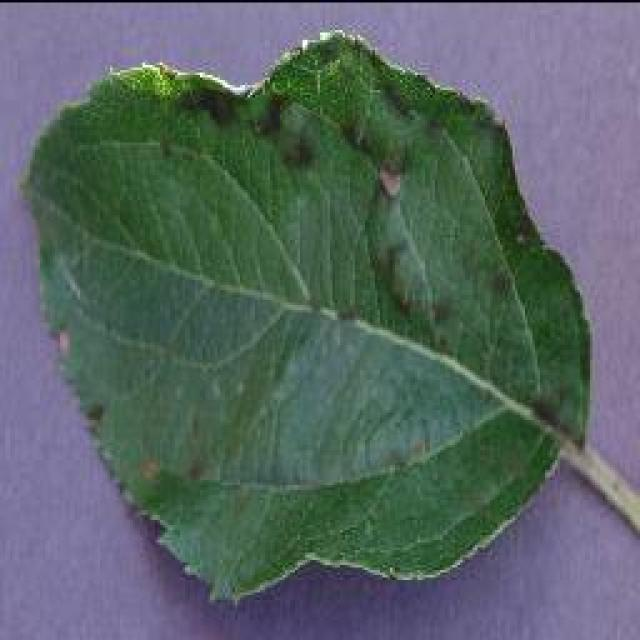apple scab disease: (18, 27, 610, 605)
